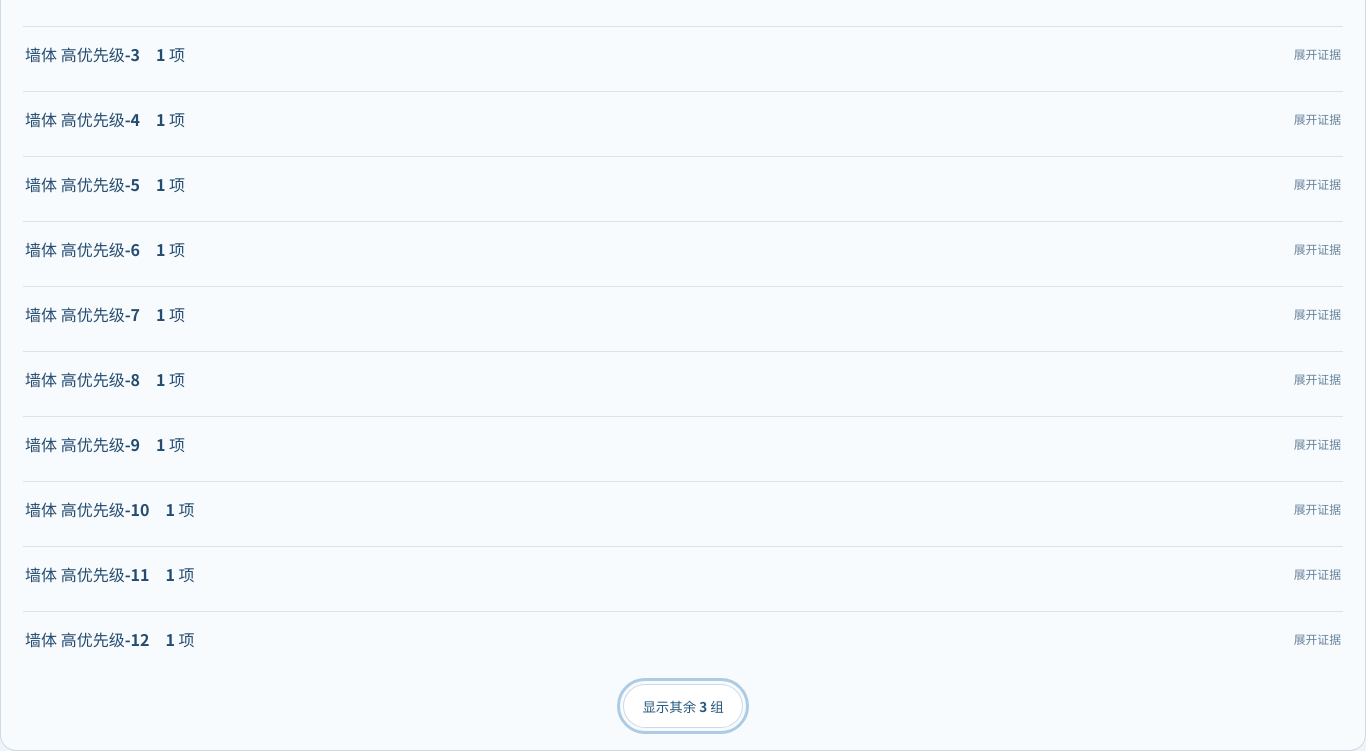
Test case: CalculationBookTaskWarnings › shows twelve high-priority groups first and progressively reveals the rest
(page scrolled)
Expected: the text "墙体 高优先级-12" is shown, x1=25 y1=627 x2=149 y2=651
Expected: the text "墙体 高优先级-13" is not shown
Press Enter
(page scrolled)
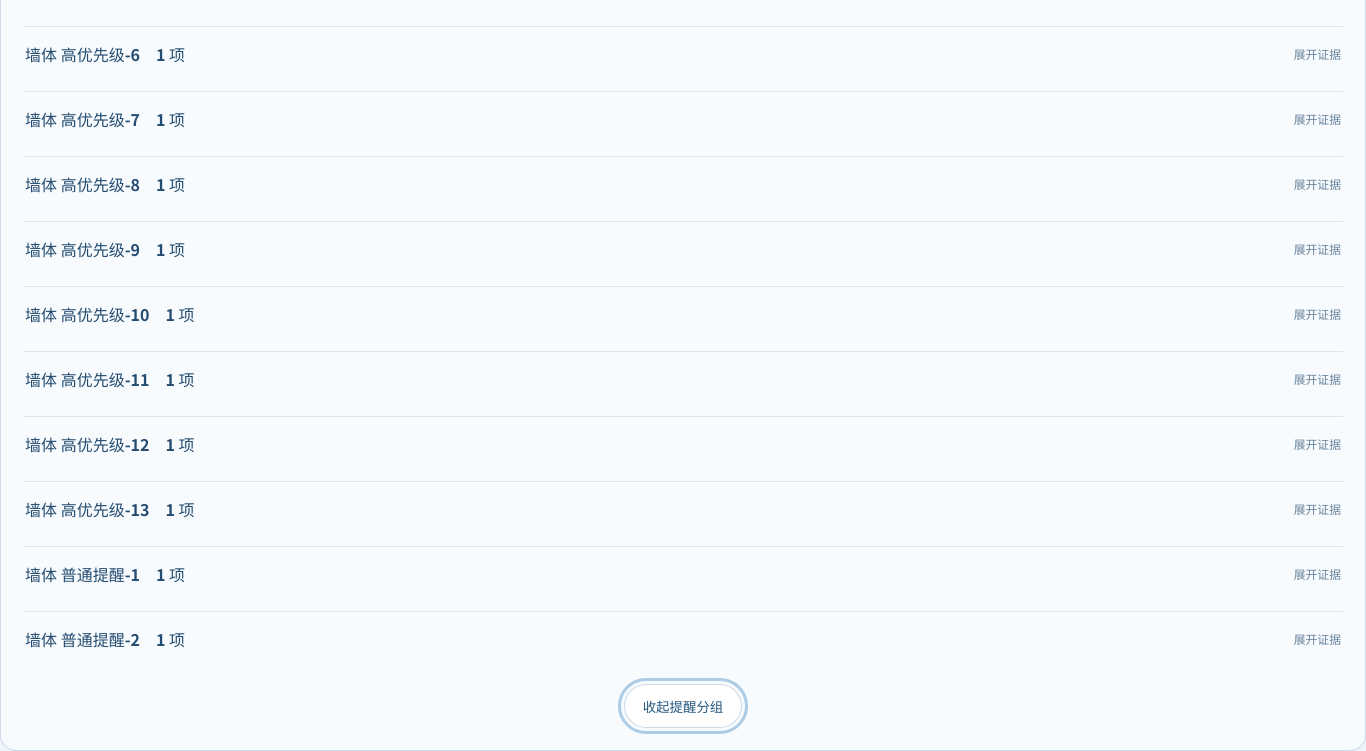
Expected: the text "墙体 高优先级-13" is shown, x1=25 y1=497 x2=149 y2=521
Expected: the text "墙体 普通提醒-1" is shown, x1=25 y1=562 x2=140 y2=586
Expected: the text "墙体 普通提醒-2" is shown, x1=25 y1=627 x2=140 y2=651
Click the button "收起提醒分组" at (683, 706), box x1=624 y1=684 x2=742 y2=728
(page scrolled)
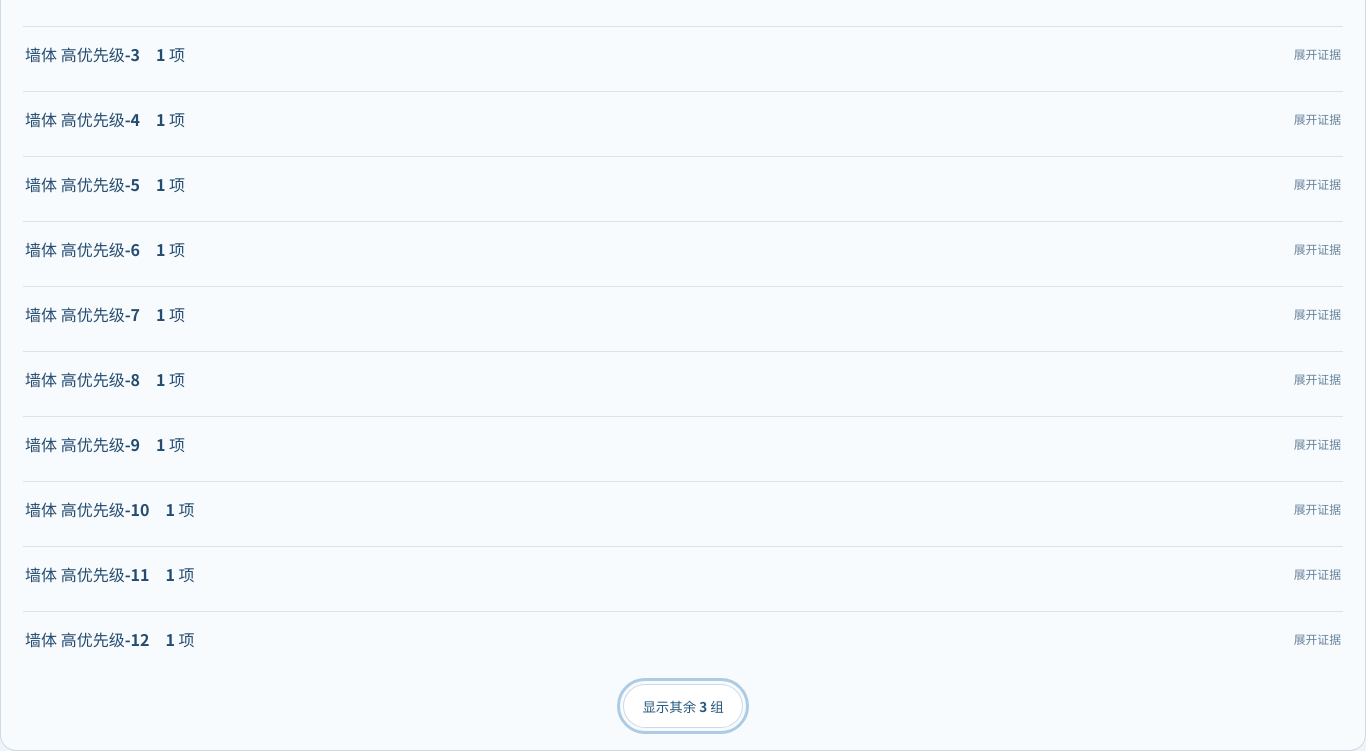
Expected: the heading "墙体 高优先级-13" is gone
Expected: the heading "墙体 普通提醒-1" is gone
